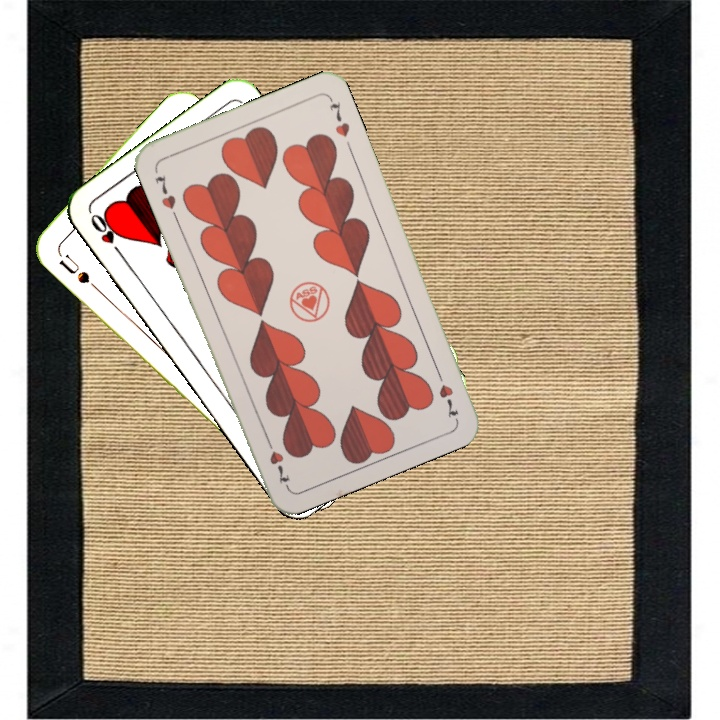H7: (431, 365, 461, 421), (151, 170, 181, 222)
HO: (86, 209, 127, 260)
SU: (53, 246, 93, 287)
